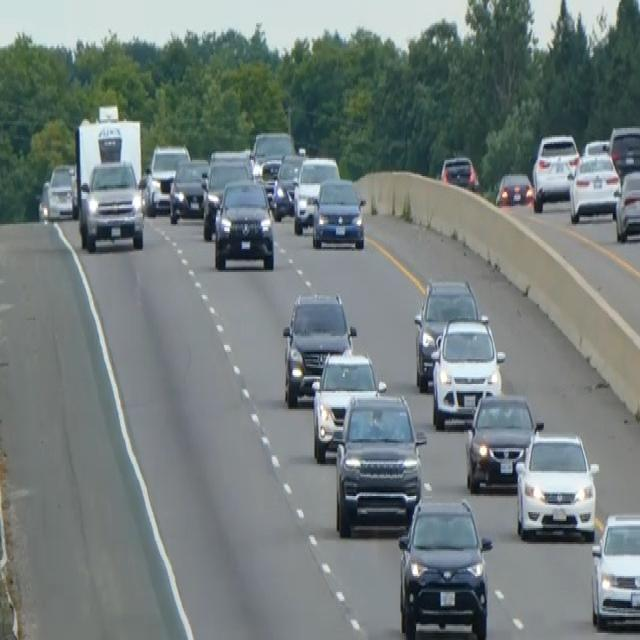car: (333, 387, 426, 537), (397, 496, 493, 638), (515, 427, 599, 542), (429, 313, 505, 428), (310, 348, 386, 462), (281, 290, 356, 405), (464, 390, 542, 492), (413, 276, 479, 391), (590, 510, 639, 631), (213, 176, 275, 270), (201, 151, 253, 238), (311, 176, 366, 249), (568, 148, 620, 222), (531, 132, 579, 212), (292, 155, 340, 233), (144, 142, 190, 215), (168, 156, 209, 224), (38, 162, 77, 222), (271, 151, 304, 219), (250, 128, 295, 176), (614, 165, 639, 242), (608, 122, 639, 178), (440, 153, 478, 190), (495, 171, 533, 208), (582, 137, 610, 156)
truck: (72, 105, 145, 252)
